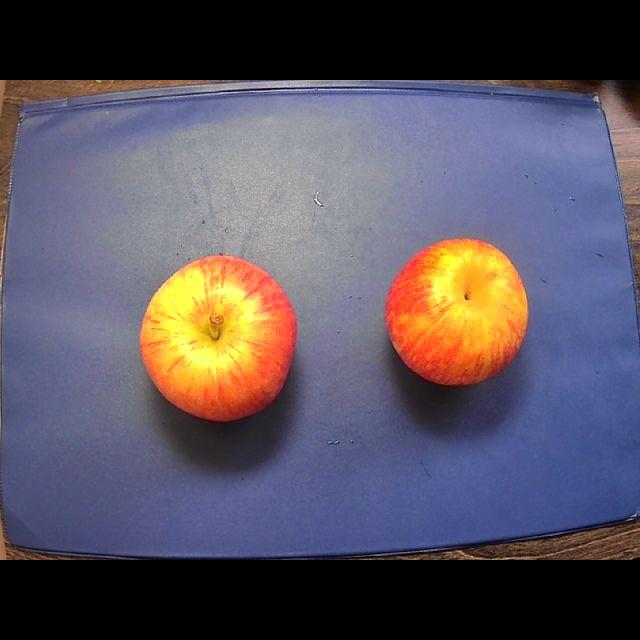manzana: (141, 256, 296, 421), (385, 239, 527, 385)
